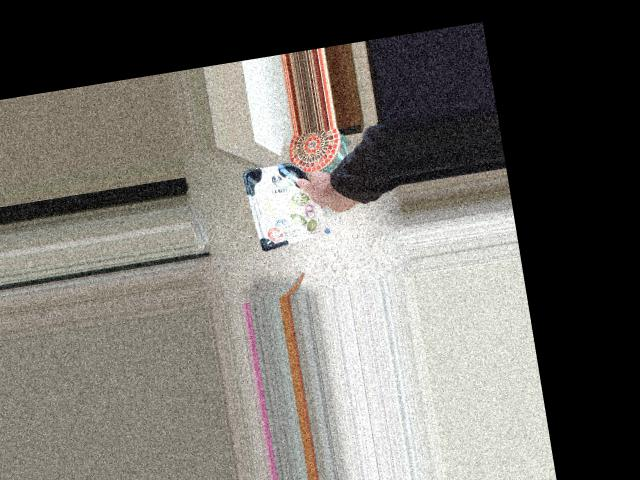cheese: (259, 155, 356, 249)
